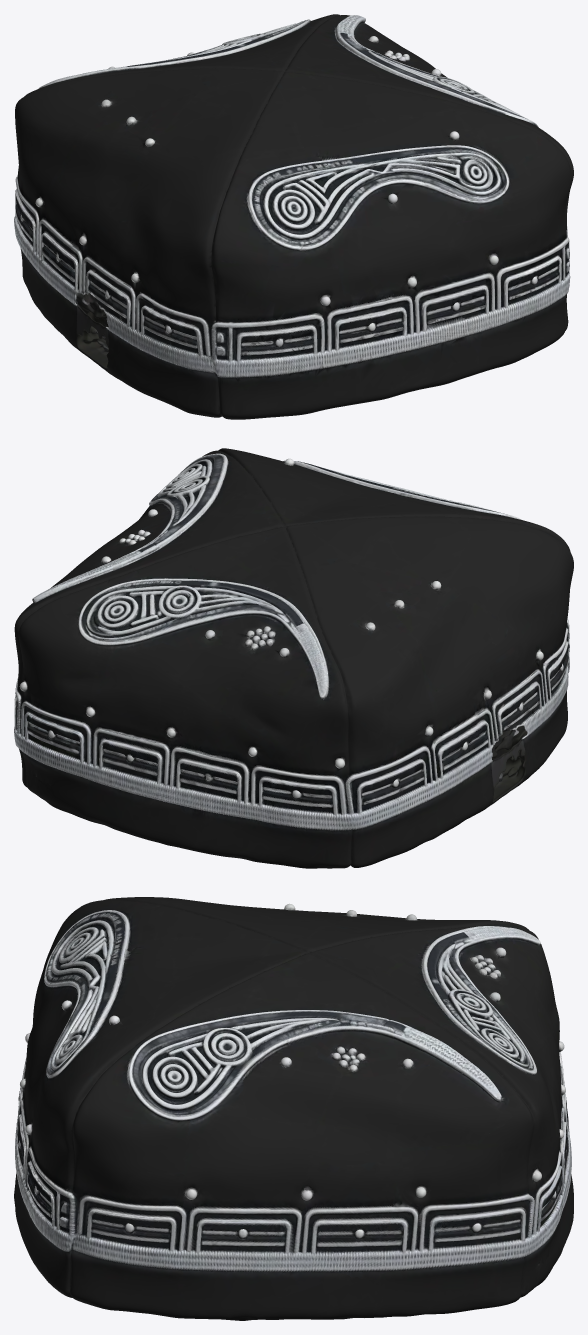
The model's file is doppi_1.glb.
3 renders of one model, top to bottom at view 1: azimuth 30°, elevation 25°; view 2: azimuth 150°, elevation 25°; view 3: azimuth 270°, elevation 25°, orthographic. The views are drawn at different scales.
Visible parts, largest first — view 1: tripo_node_d31ba9de-ced2-4d57-8480-ff73e0225804; view 2: tripo_node_d31ba9de-ced2-4d57-8480-ff73e0225804; view 3: tripo_node_d31ba9de-ced2-4d57-8480-ff73e0225804.
Part boxes in pixels (left/top/right/bottom): tripo_node_d31ba9de-ced2-4d57-8480-ff73e0225804: left=14, top=14, right=573, bottom=419; tripo_node_d31ba9de-ced2-4d57-8480-ff73e0225804: left=14, top=448, right=573, bottom=868; tripo_node_d31ba9de-ced2-4d57-8480-ff73e0225804: left=14, top=897, right=573, bottom=1320.
Bounding box in the file's own units: 0.9436 × 0.5099 × 0.9786.
1 material, 1 textured.
